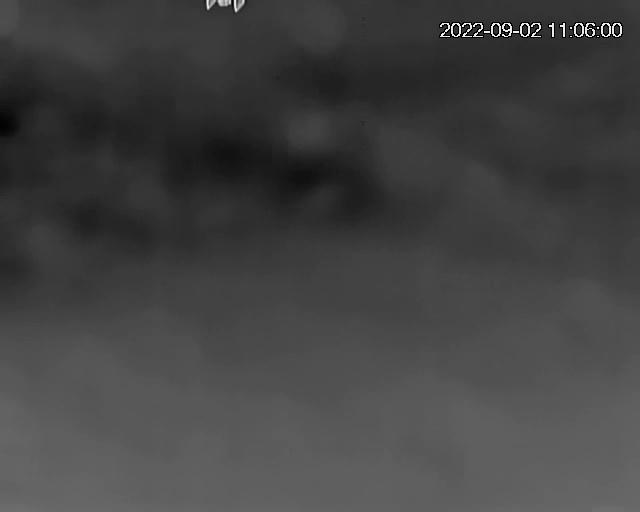DJI-Phantom: (204, 0, 252, 12)
